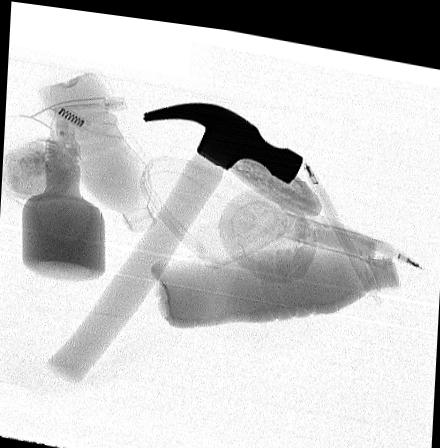Hammer: (45, 97, 303, 382)
